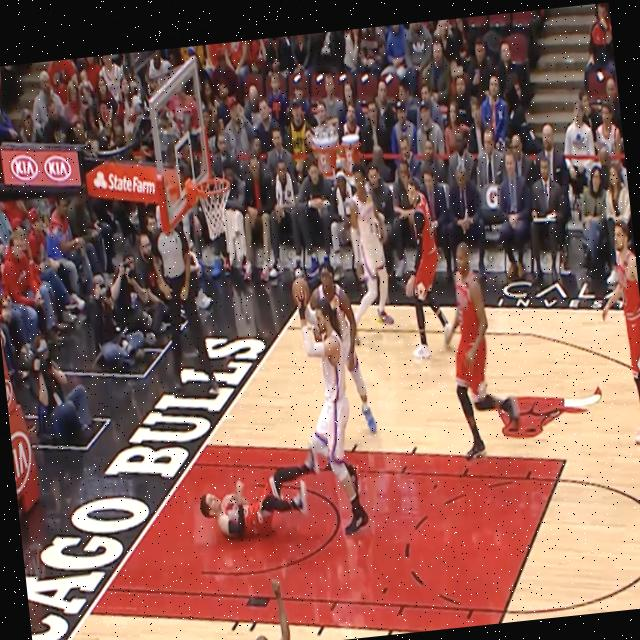foul: (176, 274, 380, 573)
